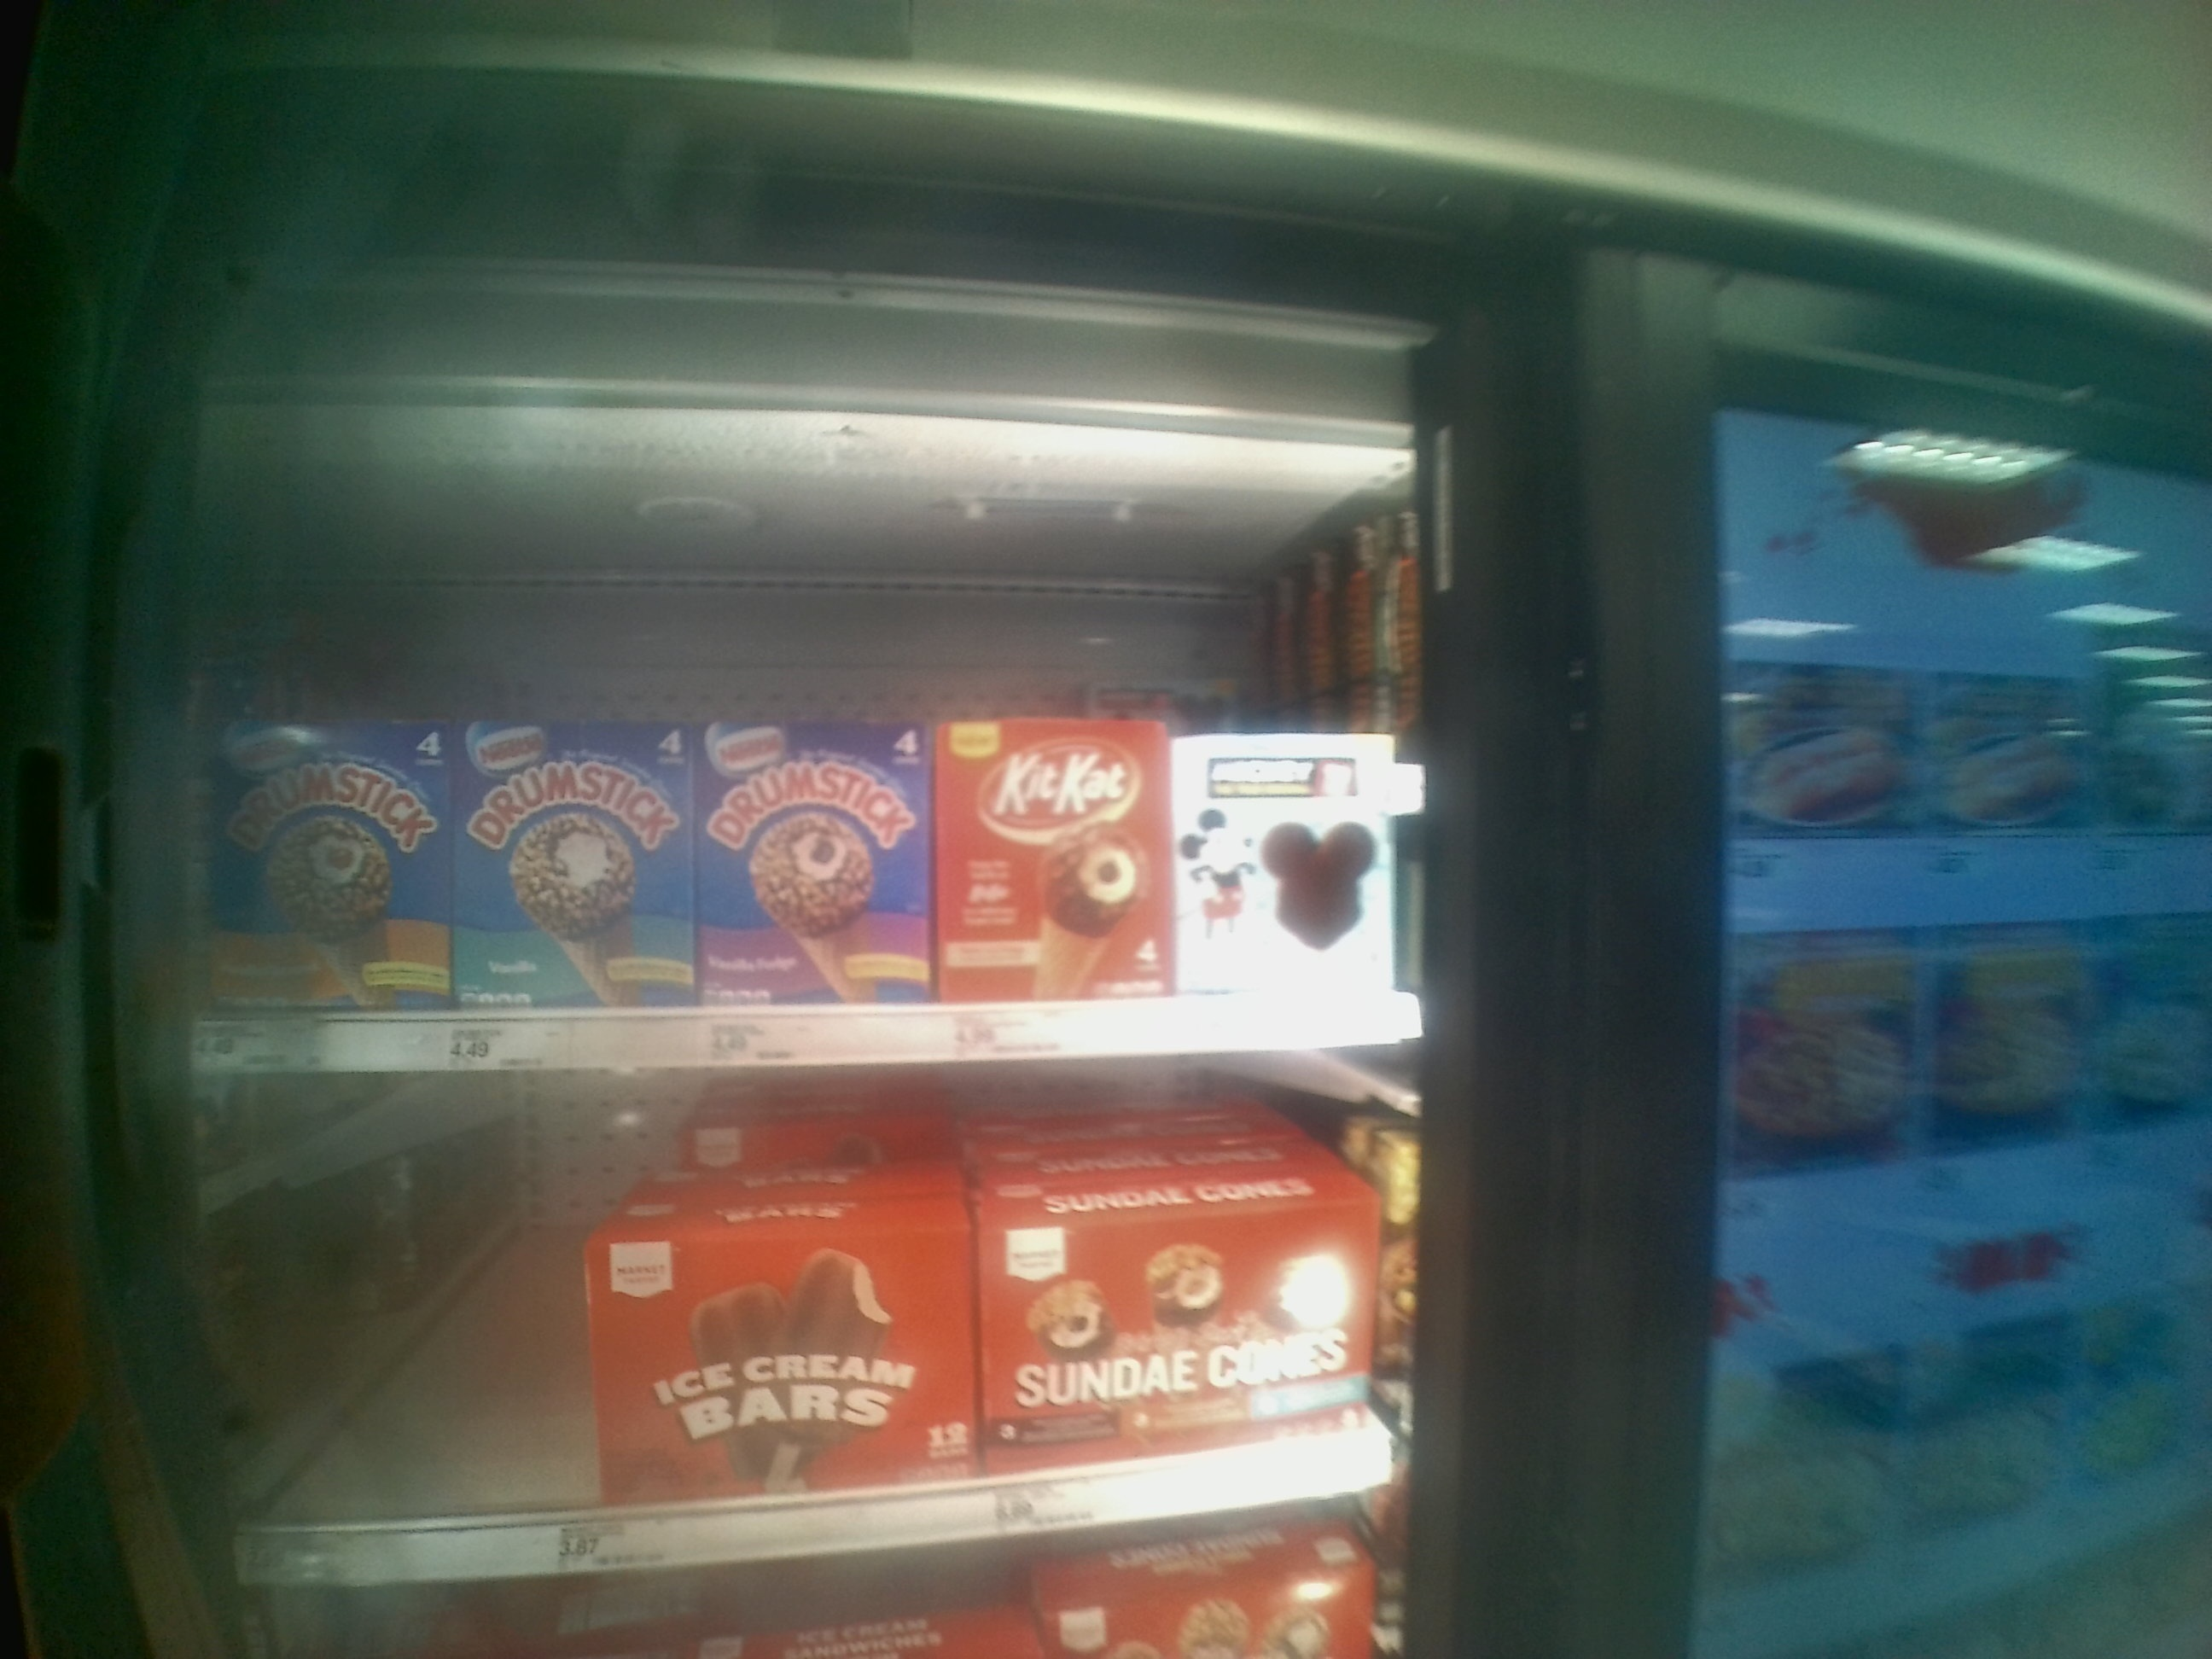shelf: (200, 397, 1468, 1060), (200, 1049, 1470, 1525)
